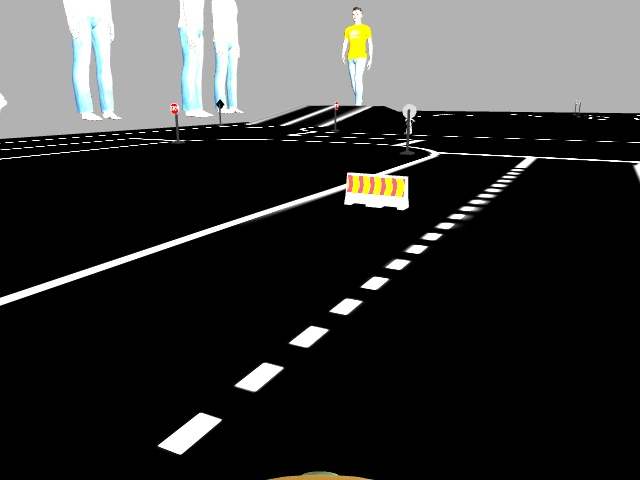ClosedRoadStand: (347, 173, 409, 208)
